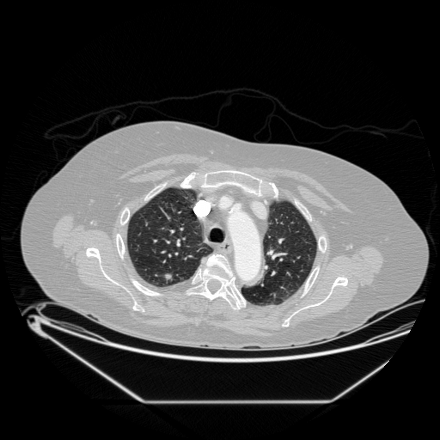nodule: (164, 272, 172, 280)
